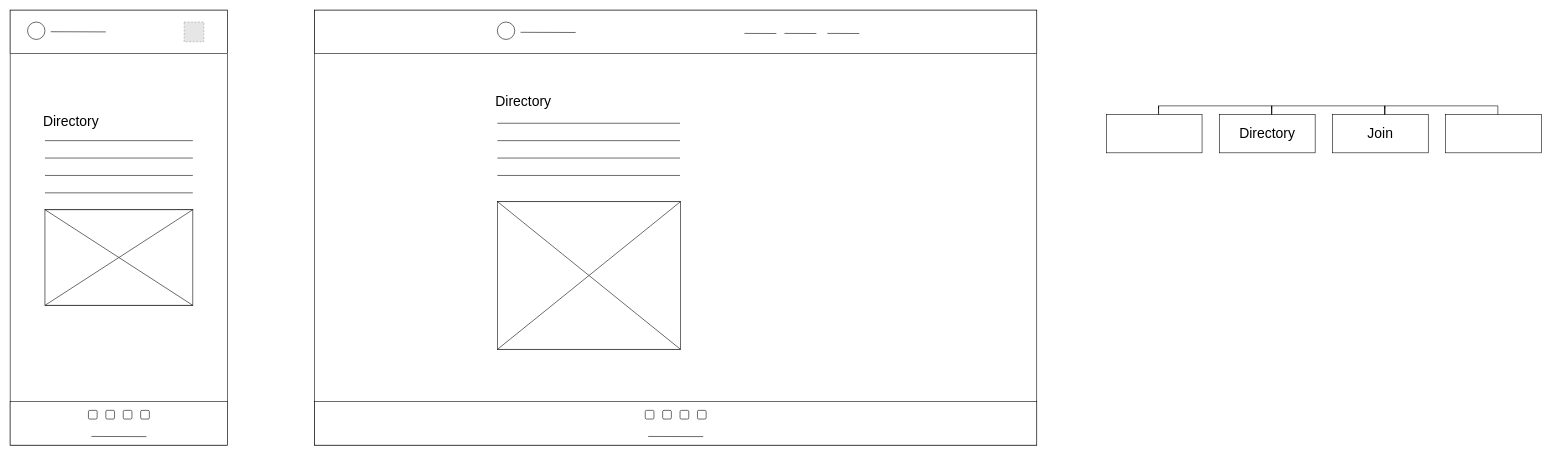
Image size: 1552x455. Some labels were removed from this diagram. Grey dashed boxes stand in for pictures. Each missing label, with the box of its shape:
About: (1445, 114, 1541, 153)
Home: (1106, 114, 1202, 153)
